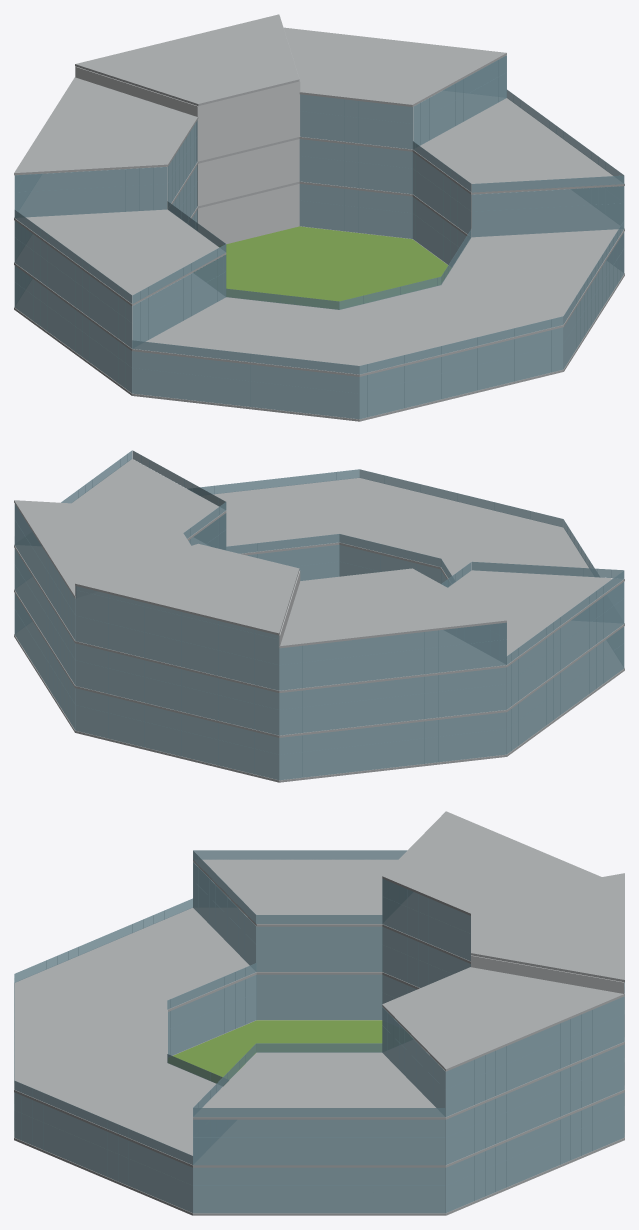
The model's file is inl-building.glb.
The picture shows the model from 3 angles, top to bottom: view 1: azimuth 30°, elevation 25°; view 2: azimuth 150°, elevation 25°; view 3: azimuth 270°, elevation 25°; orthographic projection. The views are drawn at different scales.
Parts seen in each view (by area): view 1: Floor Generic - 12" [1240686], Floor Generic - 12" [1241935], Floor Generic - 12" [1238431], Floor Generic - 12" [1242759], Floor Concrete 4" 2 [1243569], Floor Generic - 12" [1243064], Basic Wall Generic - 8" [1242417], Basic Wall Generic - 8" [1241551], Basic Wall Generic - 8" [1238518], Basic Wall Generic - 8" [1243333]; view 2: Floor Generic - 12" [1240686], Floor Generic - 12" [1241935], Floor Generic - 12" [1238431], Floor Generic - 12" [1242759], Floor Generic - 12" [1243064]; view 3: Floor Generic - 12" [1240686], Floor Generic - 12" [1238431], Floor Generic - 12" [1241935], Floor Generic - 12" [1242759], Floor Generic - 12" [1243064], Floor Concrete 4" 2 [1243569], Basic Wall Generic - 8" [1243462].
Boxes of the visible parts, box(x1,y1,x2,y2) form: Floor Generic - 12" [1240686]: box(14, 139, 624, 376); Floor Generic - 12" [1241935]: box(14, 90, 624, 305); Floor Generic - 12" [1238431]: box(14, 184, 624, 421); Floor Generic - 12" [1242759]: box(14, 27, 506, 175); Floor Concrete 4" 2 [1243569]: box(219, 226, 450, 308); Floor Generic - 12" [1243064]: box(75, 14, 299, 105); Basic Wall Generic - 8" [1242417]: box(196, 81, 300, 161); Basic Wall Generic - 8" [1241551]: box(197, 139, 299, 206); Basic Wall Generic - 8" [1238518]: box(197, 184, 299, 245); Basic Wall Generic - 8" [1243333]: box(75, 66, 196, 116); Floor Generic - 12" [1240686]: box(14, 478, 624, 737); Floor Generic - 12" [1241935]: box(14, 459, 624, 692); Floor Generic - 12" [1238431]: box(14, 545, 624, 782); Floor Generic - 12" [1242759]: box(14, 500, 506, 648); Floor Generic - 12" [1243064]: box(75, 543, 299, 635); Floor Generic - 12" [1240686]: box(14, 907, 624, 1167); Floor Generic - 12" [1238431]: box(14, 975, 624, 1215); Floor Generic - 12" [1241935]: box(193, 859, 624, 1119); Floor Generic - 12" [1242759]: box(382, 811, 624, 1071); Floor Generic - 12" [1243064]: box(471, 873, 624, 982); Floor Concrete 4" 2 [1243569]: box(168, 1020, 382, 1082); Basic Wall Generic - 8" [1243462]: box(472, 955, 624, 993).
Size of the model in its own units: 73.79 by 21.34 by 73.79.
